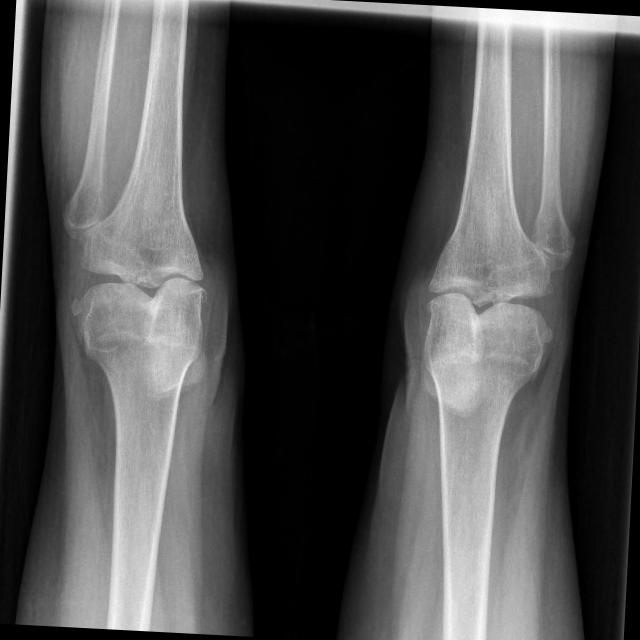Knee: (74, 212, 208, 350), (424, 250, 554, 364)
